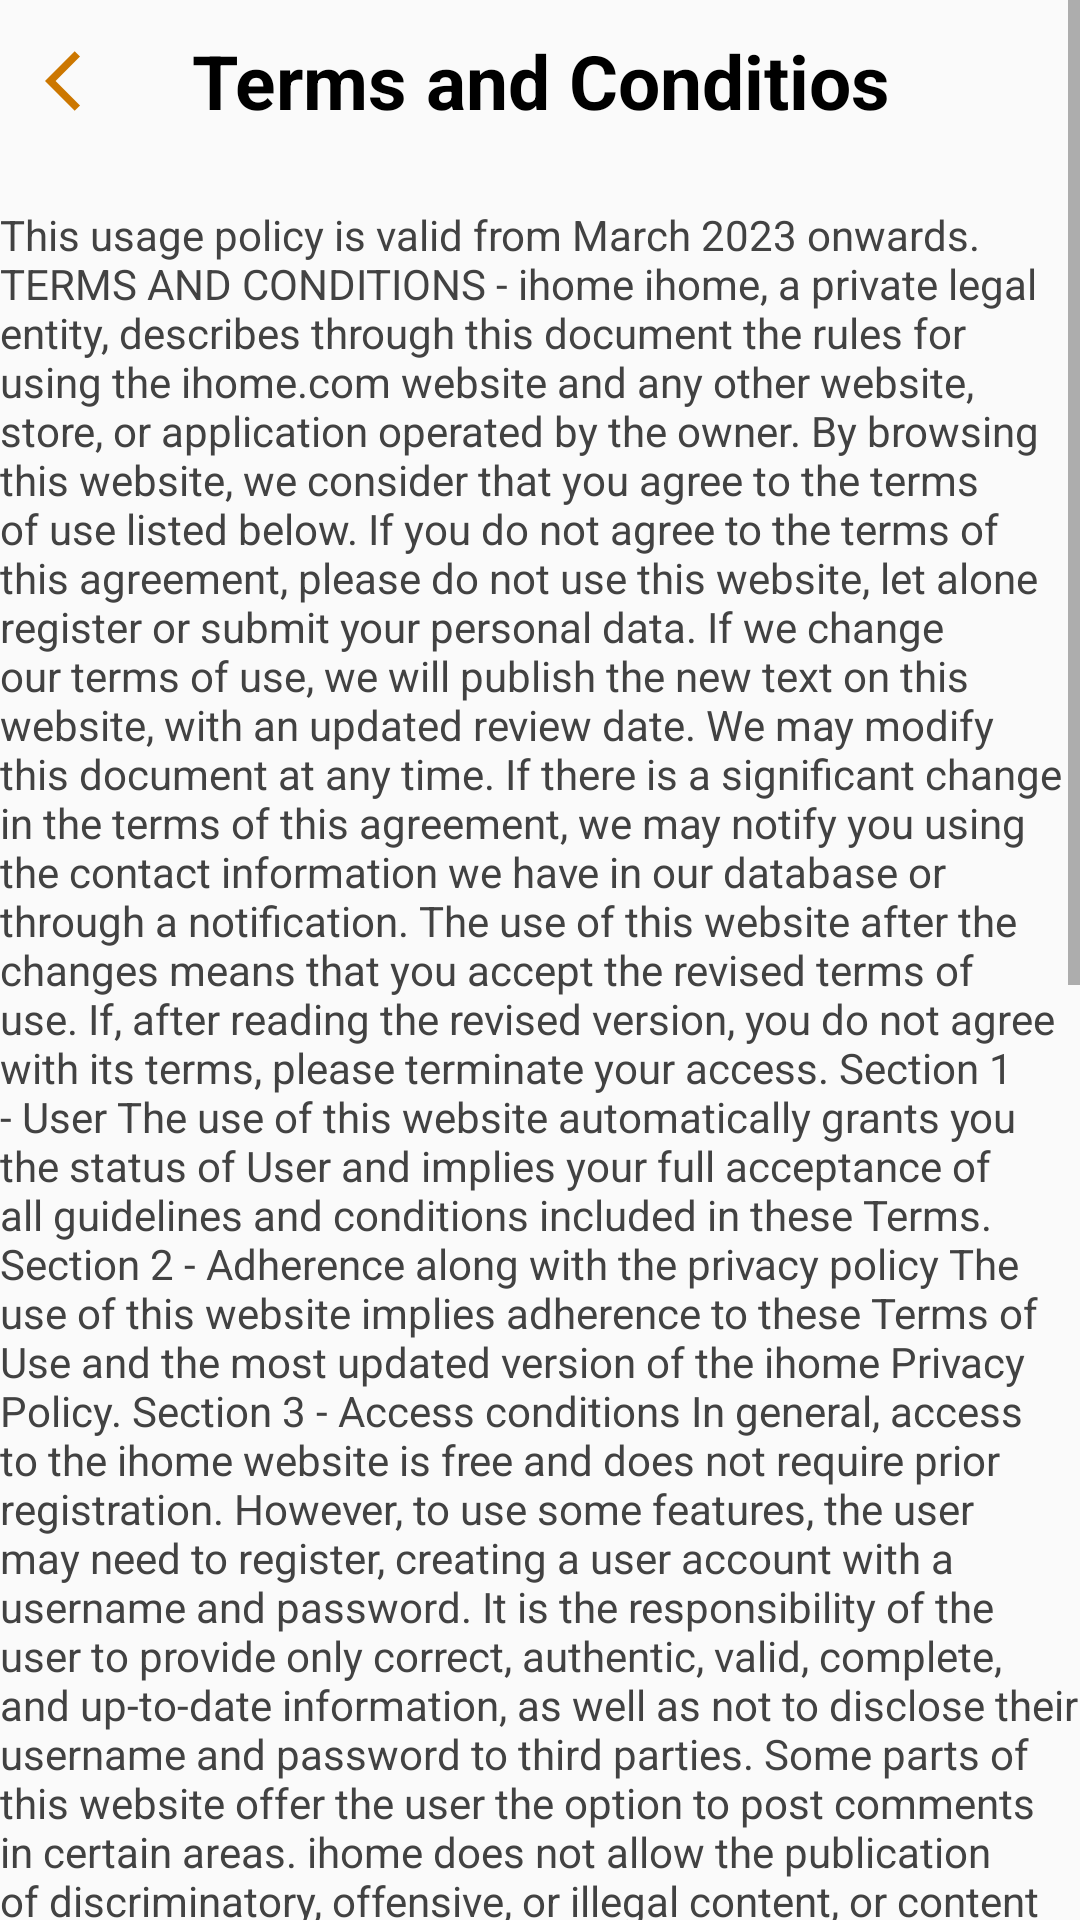

Screen size 1080*1920. Icon name, then its center in pixels as point (x, y):
arrow back: point (62, 81)
